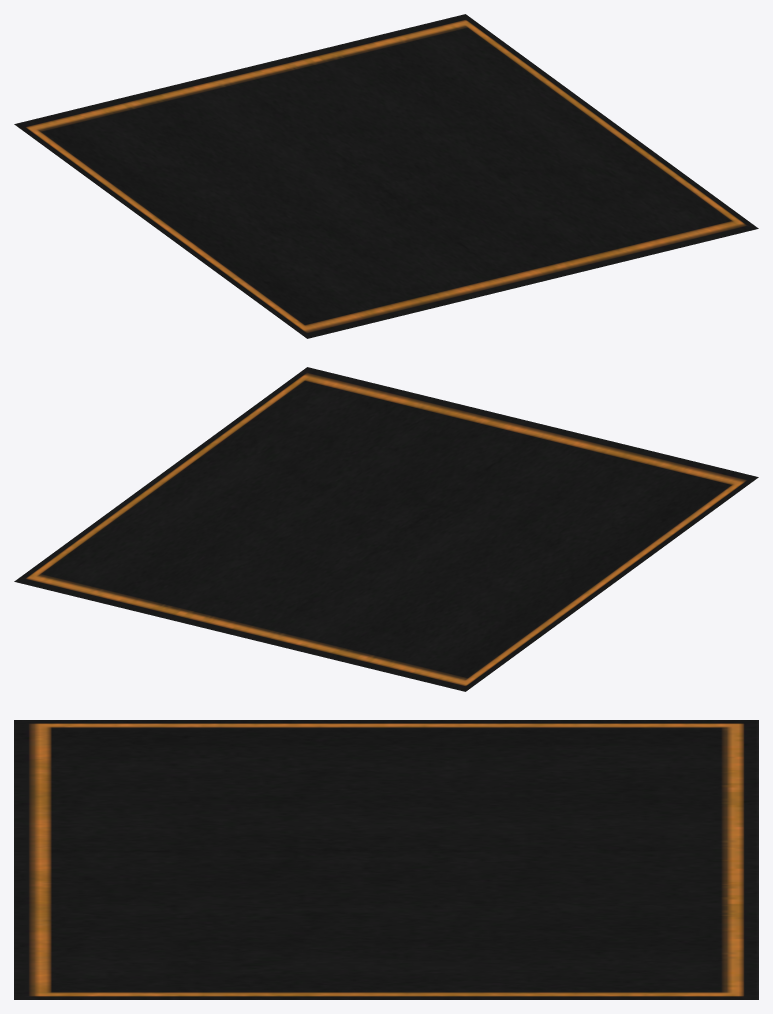
The model's file is BackgroundBlack.gltf.
3 renders of one model, top to bottom at view 1: azimuth 30°, elevation 25°; view 2: azimuth 150°, elevation 25°; view 3: azimuth 270°, elevation 25°, orthographic. The views are drawn at different scales.
Visible parts, largest first — view 1: BackgroundBlack; view 2: BackgroundBlack; view 3: BackgroundBlack.
Part boxes in pixels (x1,y1,x2,y2): BackgroundBlack: (14,14,758,338); BackgroundBlack: (14,367,758,691); BackgroundBlack: (14,720,758,999).
Bounding box in the file's own units: 4 × 2e-07 × 4.5.
